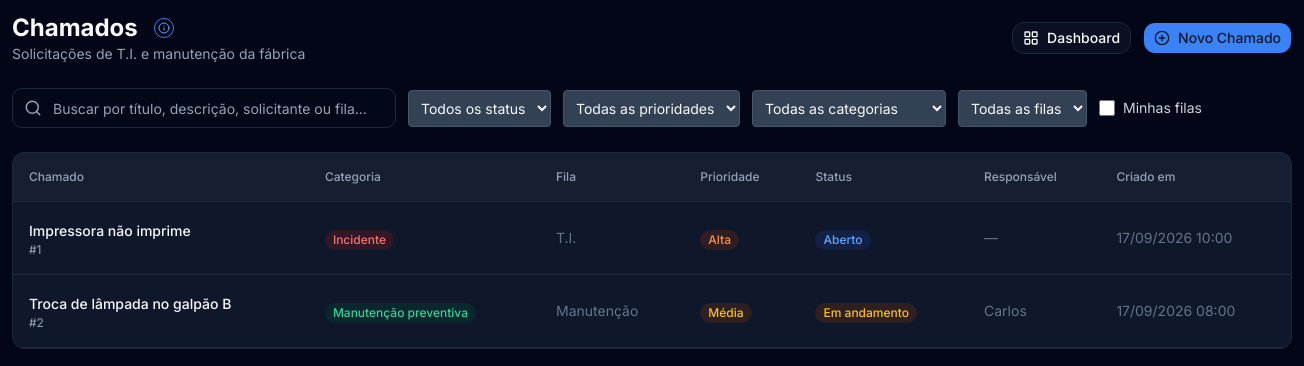
Test: ChamadosPage › filtra pela busca
The width and height of the screenshot is (1304, 366).
Expected: the text "Impressora não imprime" is shown, [29,222,191,239]
In the field with placeholder "Buscar por título, descrição, solicitante ou fila...": (204,108) [12,88,396,128], type "Impressora"
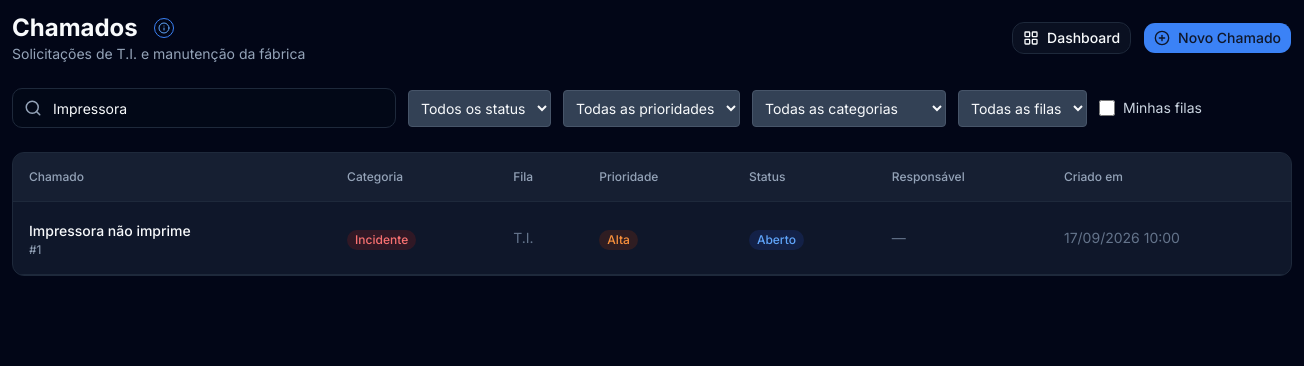
Expected: the text "Impressora não imprime" is shown, [29,222,191,239]
Result: the link "Troca de lâmpada no galpão B" is gone
Replace the text in the field with placeholder "Buscar por título, descrição, solicitante ou fila..." with "zzz-inexistente": (204,108) [12,88,396,128]
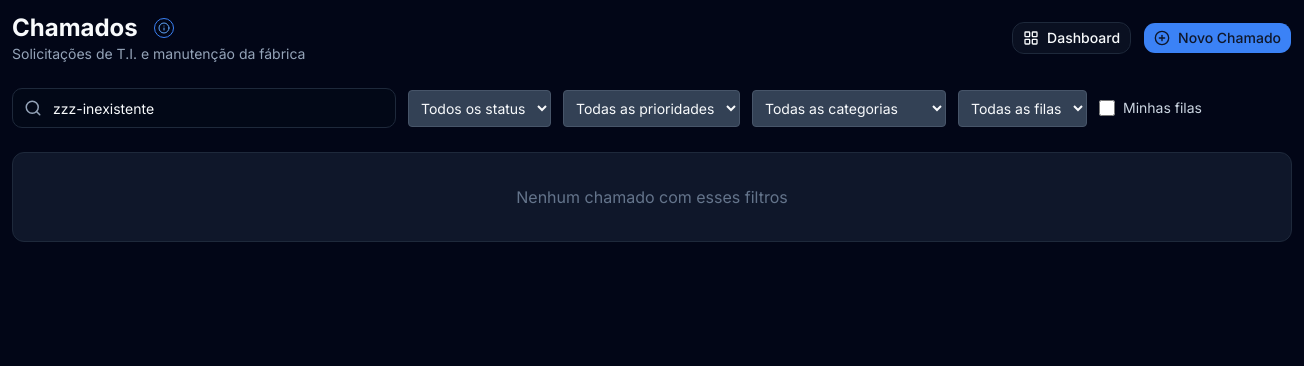
Result: the text "Nenhum chamado com esses filtros" is shown at [516,187,788,207]
